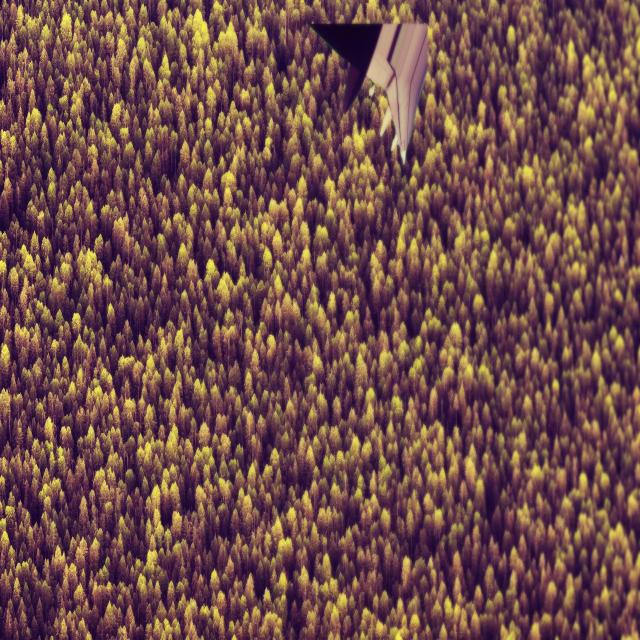airplane: (307, 21, 428, 166)
